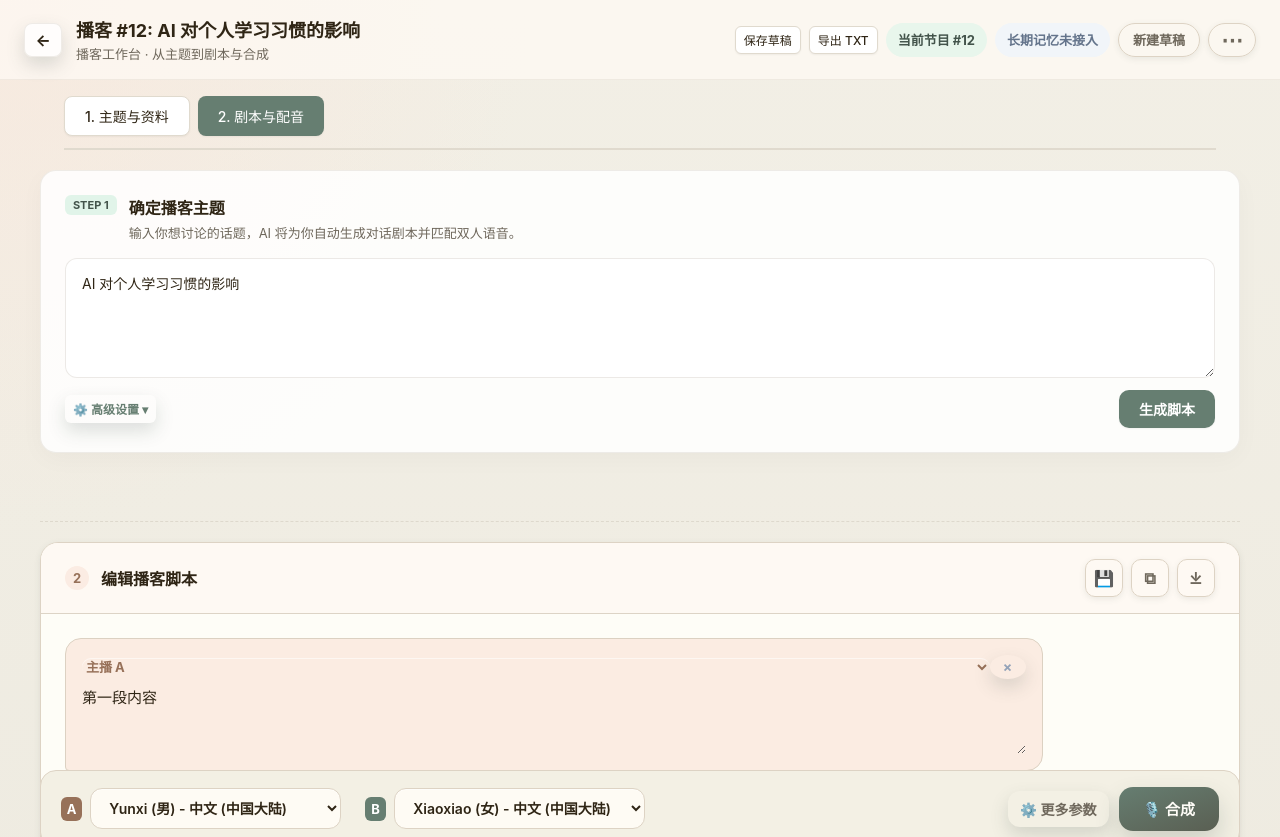
Test: AudioOverviewPage › renders the podcast architecture appropriately
expect the heading "播客 #12: AI 对个人学习习惯的影响" is shown: met, box [76,16,360,42]
Note: Switch to Stage 1 to verify topic step
Click the button "1. 主题与资料". click: (127, 116)
box: [64,96,190,136]
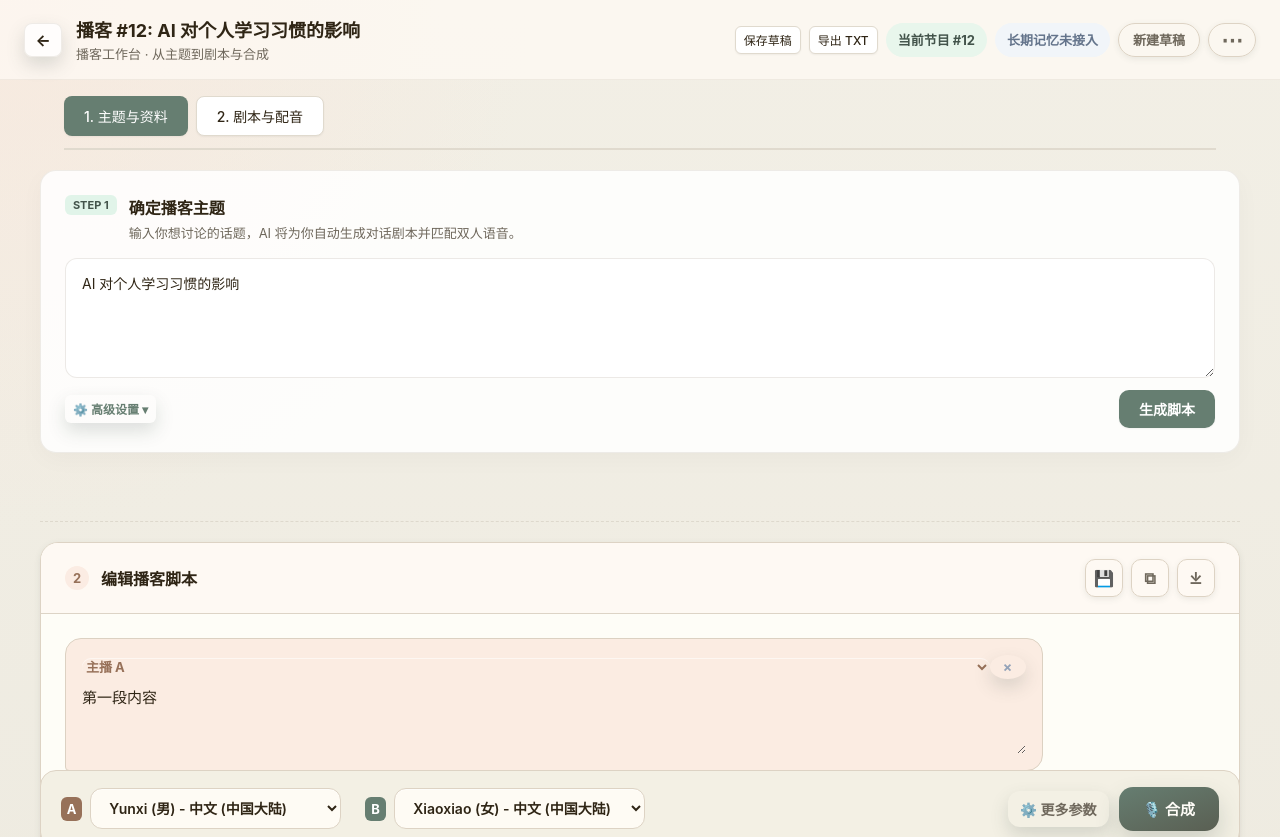
expect the text box showing "AI 对个人学习习惯的影响" below "输入你想讨论的话题，AI 将为你自动生成对话剧本并匹配双人语音。" is shown: met, box [65,258,1215,378]
Note: Switch to Stage 2 to verify script editor and synth controls
Click the button "2. 剧本与配音". click: (260, 116)
box: [196,96,324,136]
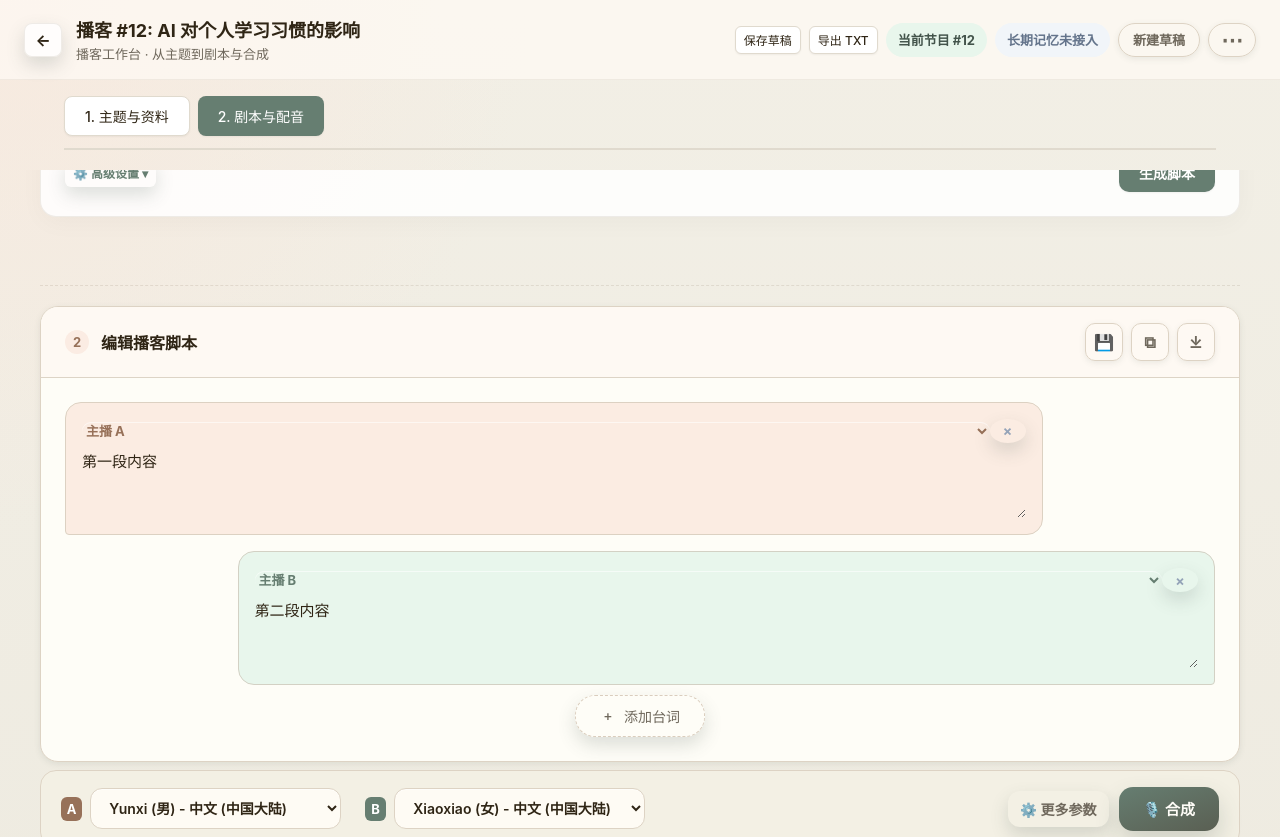
expect the 1st text box "第一段内容" is shown: met, box [82,451,1026,518]
expect the button "🎙️ 合成" is shown: met, box [1118,787,1219,831]
Note: Click back button to return to library and verify the podcast list
Click the button titled "返回列表". click: (43, 40)
box: [24,22,62,56]
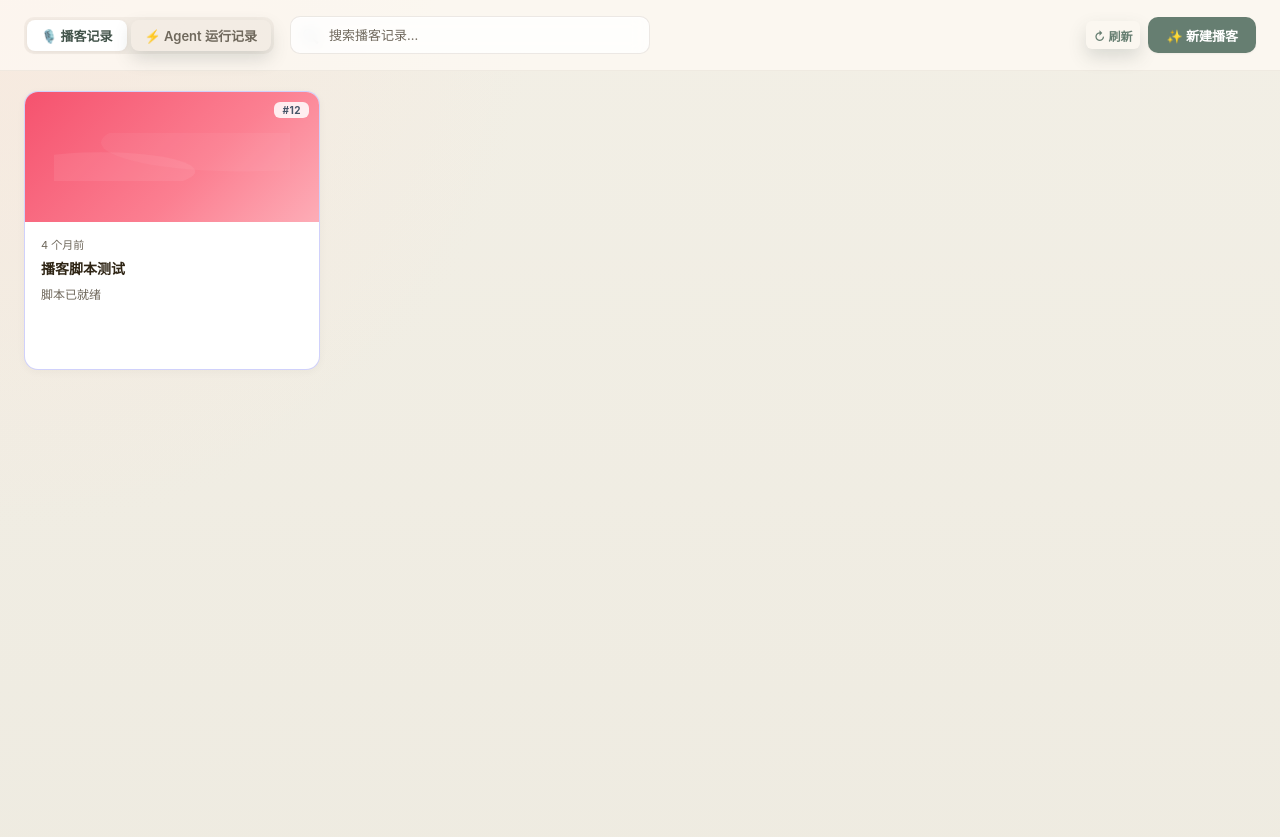
expect the heading "播客脚本测试" is shown: met, box [41,260,125,277]
